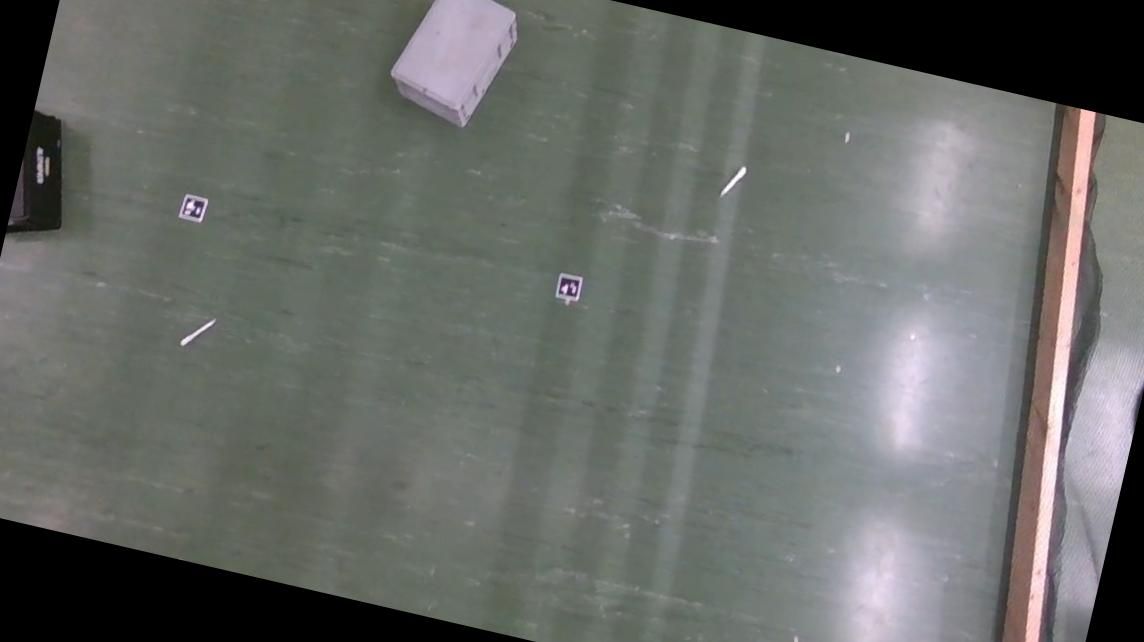probes: (180, 314, 215, 355), (720, 164, 745, 200)
rako: (382, 0, 527, 139), (4, 106, 84, 252)
